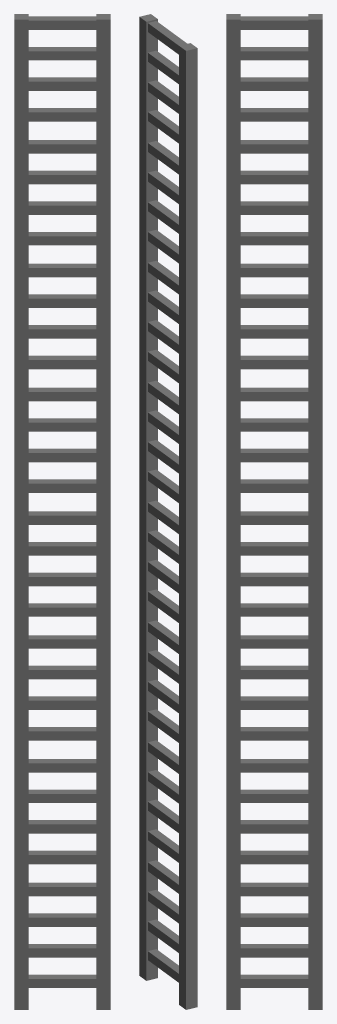
File: Ladderx9.fbx
The picture shows the model from 3 angles, left to right: view 1: azimuth 90°, elevation 25°; view 2: azimuth 210°, elevation 25°; view 3: azimuth 270°, elevation 25°; orthographic projection. The views are drawn at different scales.
Parts seen in each view (by area): view 1: Ladder; view 2: Ladder; view 3: Ladder.
Part boxes in pixels (x1=…): Ladder: x1=14, y1=14, x2=110, y2=1009; Ladder: x1=139, y1=14, x2=197, y2=1009; Ladder: x1=226, y1=14, x2=322, y2=1009.
Bounding box in the file's own units: 10 × 800 × 70.5.
